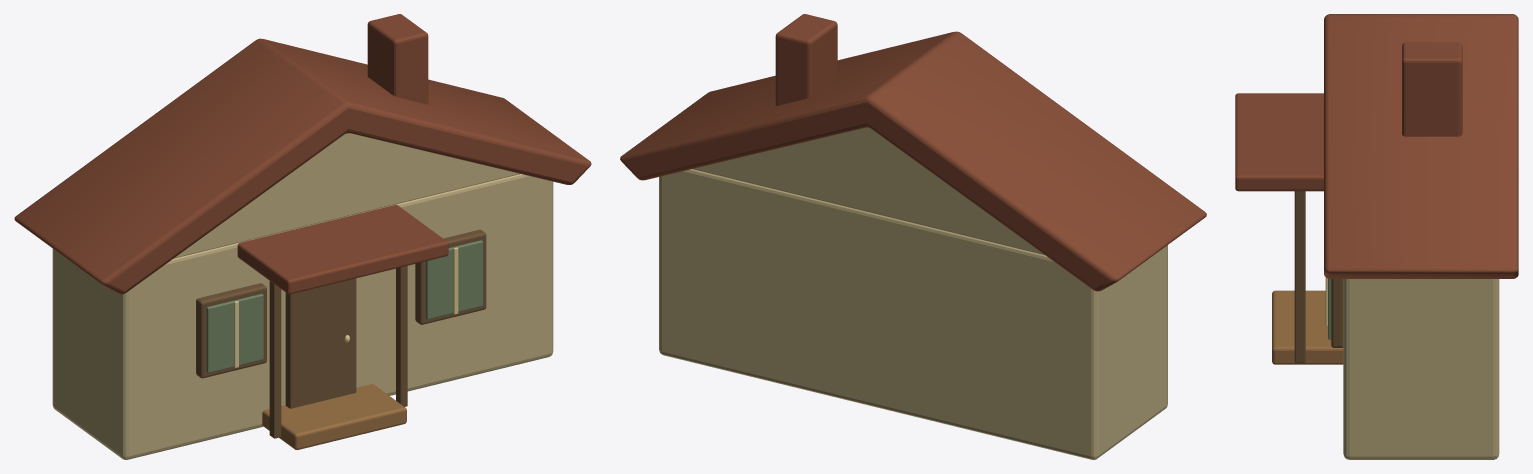
Rendered from residential_cottage.glb.
The picture shows the model from 3 angles, left to right: view 1: azimuth 30°, elevation 25°; view 2: azimuth 150°, elevation 25°; view 3: azimuth 270°, elevation 25°; orthographic projection. The views are drawn at different scales.
Parts seen in each view (by area): view 1: PropGeometryGeometry; view 2: PropGeometryGeometry; view 3: PropGeometryGeometry.
Part boxes in pixels (<box>): PropGeometryGeometry: <box>14,14,591,459</box>; PropGeometryGeometry: <box>620,14,1206,459</box>; PropGeometryGeometry: <box>1235,14,1518,459</box>.
Size of the model in its own units: 2.8 by 1.79 by 1.31.
